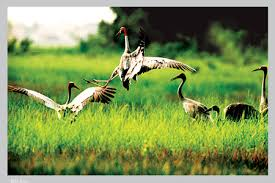seu_dau_do: (86, 23, 196, 86), (11, 81, 115, 125)
